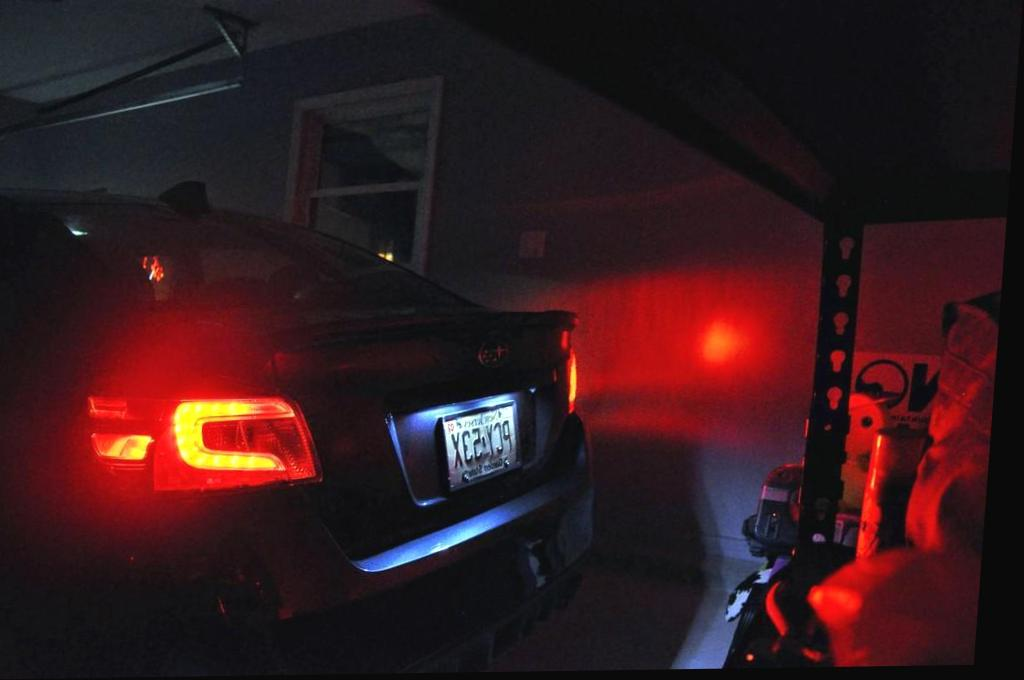License_Plate: (433, 398, 530, 495)
